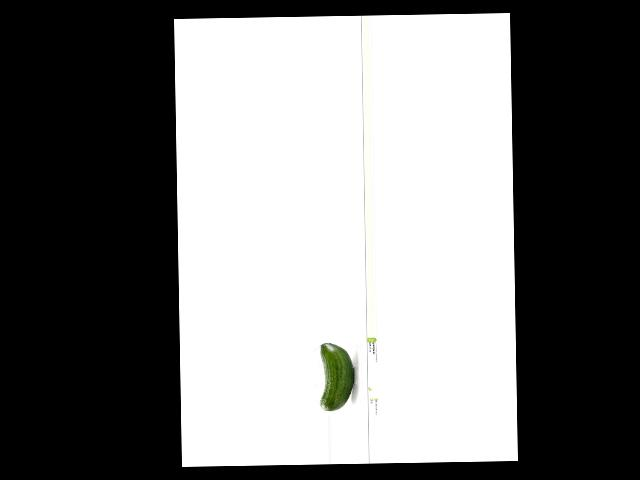cucumber: (320, 343, 354, 411)
